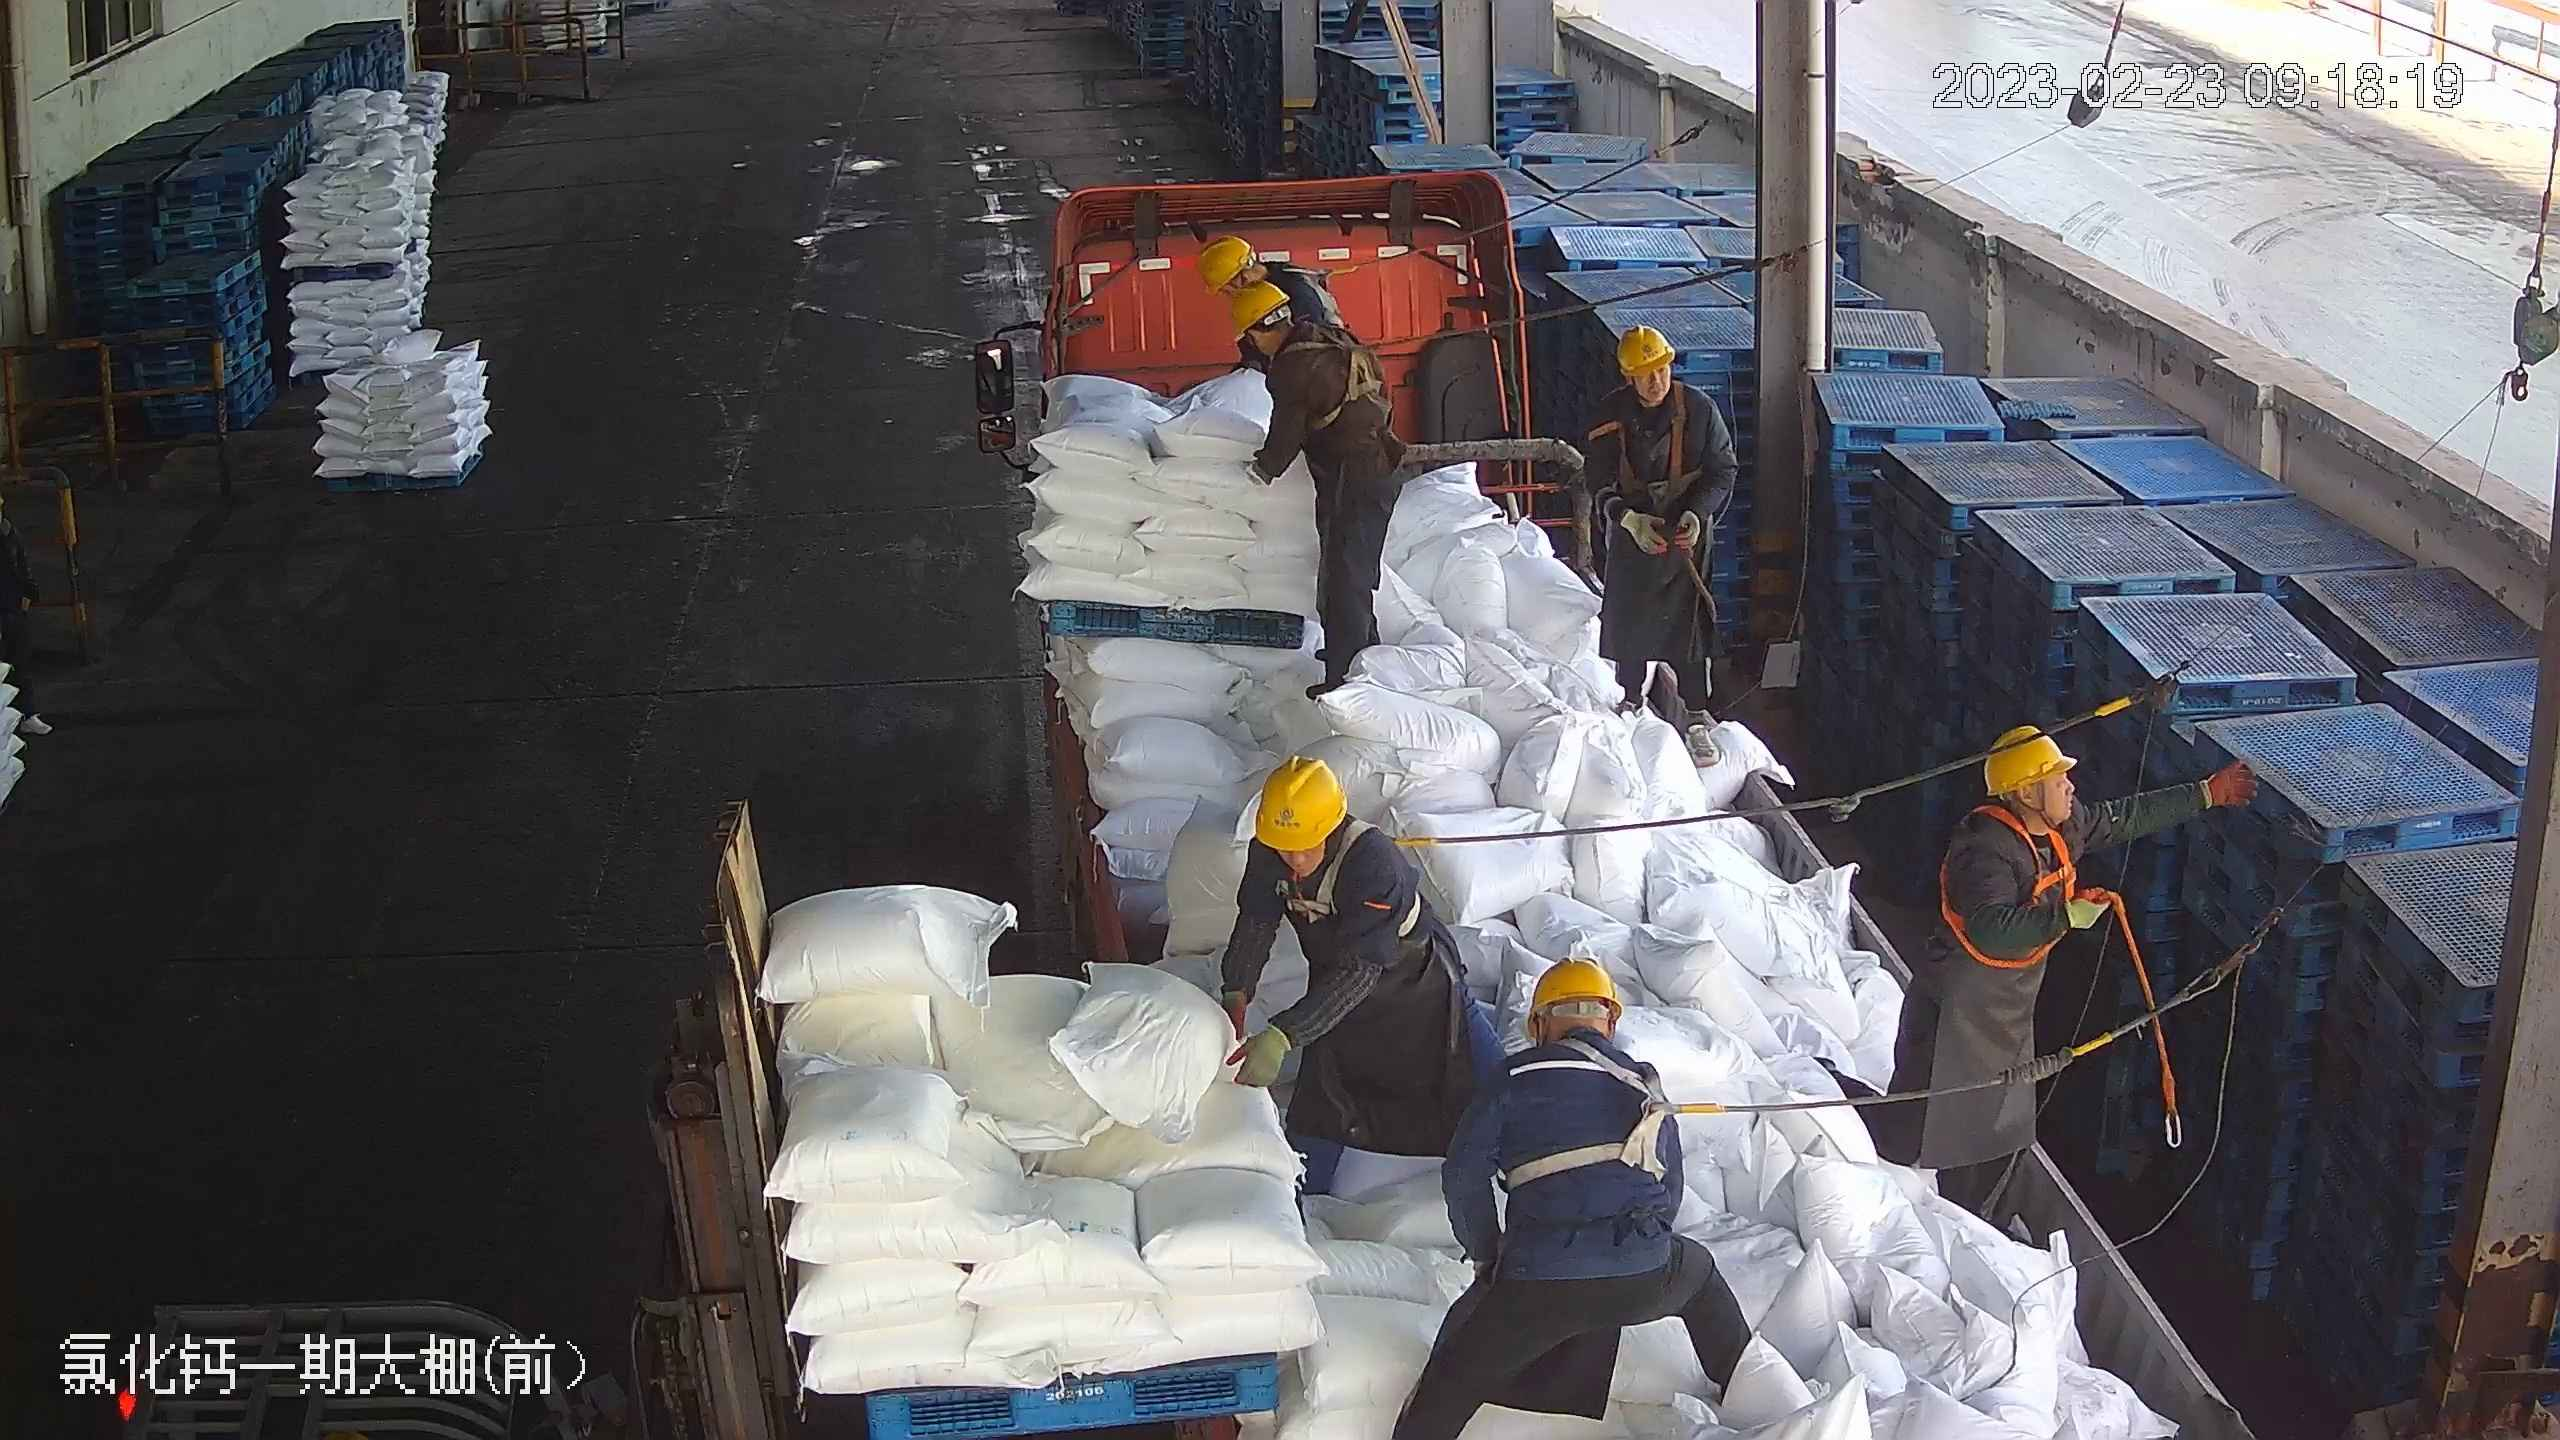belt: (1525, 1044, 1713, 1185), (1950, 815, 2086, 975), (1274, 841, 1424, 954), (1289, 327, 1404, 430), (1610, 405, 1704, 494), (1278, 258, 1353, 314)
head: (1497, 955, 1663, 1116), (1240, 755, 1402, 908), (1951, 725, 2089, 881), (1229, 278, 1355, 389), (1600, 324, 1713, 438)
helmet: (1249, 755, 1349, 849), (1521, 956, 1621, 1023), (1978, 722, 2074, 792), (1224, 279, 1292, 336), (1192, 233, 1253, 292), (1610, 322, 1675, 376)
people: (1396, 952, 1755, 1440), (1921, 720, 2238, 1250), (1214, 751, 1521, 1229), (1579, 321, 1753, 765), (1223, 282, 1405, 705)
truck: (982, 169, 2245, 1433)
